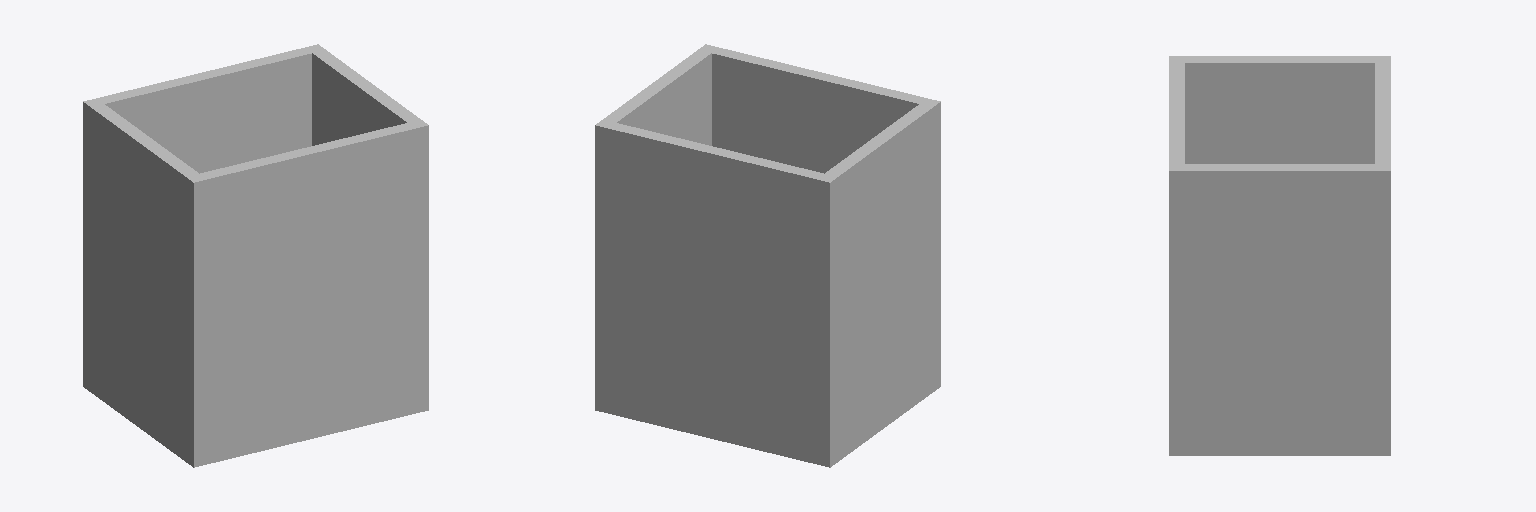
The model's file is memphis_carlton_cubicShelf.obj.
The picture shows the model from 3 angles: view 1: azimuth 30°, elevation 25°; view 2: azimuth 150°, elevation 25°; view 3: azimuth 270°, elevation 25°; orthographic projection.
Visible parts, largest first — view 1: object_1; view 2: object_1; view 3: object_1.
Boxes of the visible parts, <box> form: object_1: <box>83,44,428,467</box>; object_1: <box>595,44,940,467</box>; object_1: <box>1169,56,1390,455</box>.
Size of the model in its own units: 345 by 400 by 282.